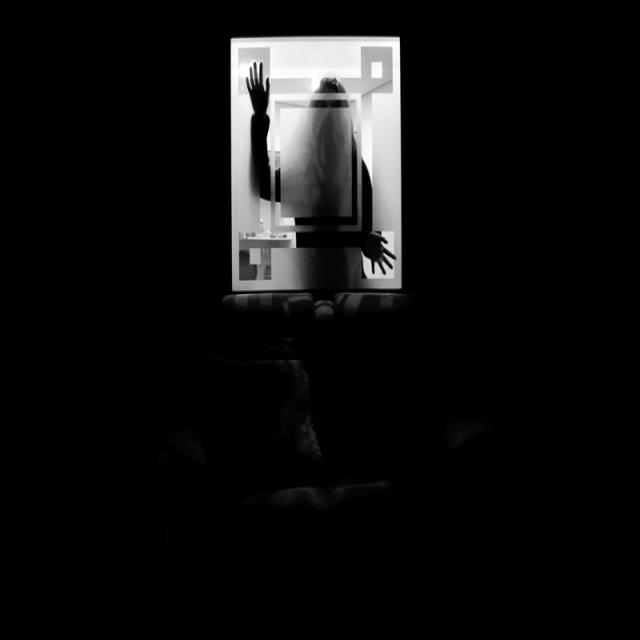People: (252, 56, 394, 286)
chair: (91, 335, 640, 632)
